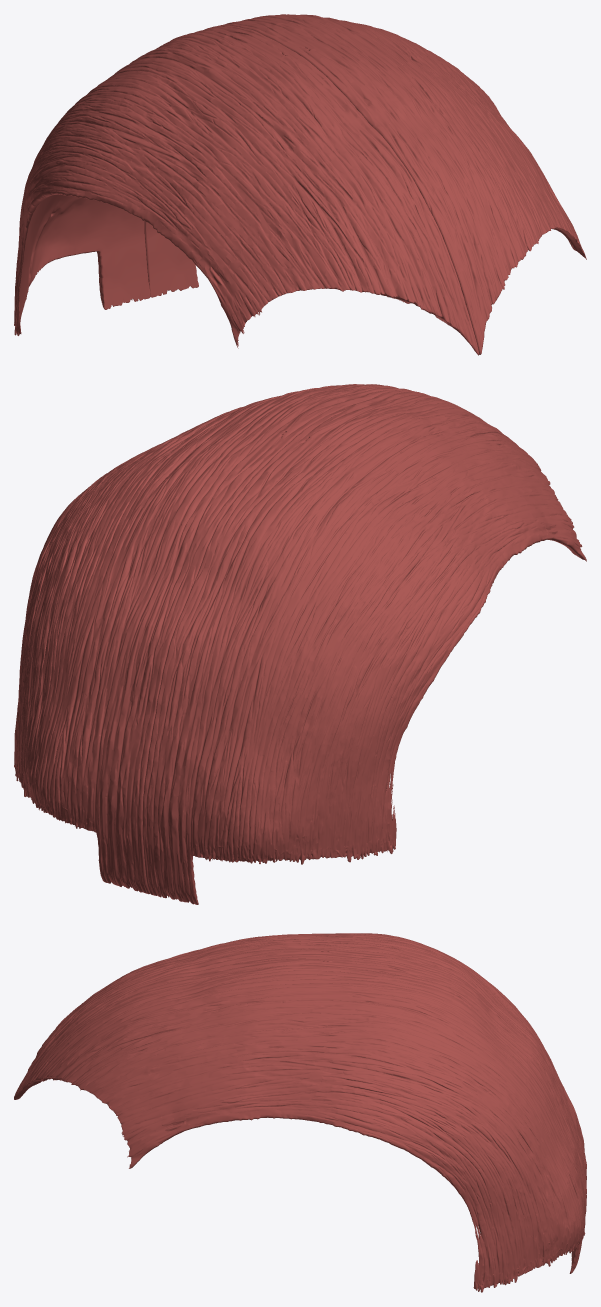
The model's file is FMA46768.glb.
The picture shows the model from 3 angles, top to bottom: view 1: azimuth 30°, elevation 25°; view 2: azimuth 150°, elevation 25°; view 3: azimuth 270°, elevation 25°; orthographic projection. The views are drawn at different scales.
Visible parts, largest first — view 1: FMA46768; view 2: FMA46768; view 3: FMA46768.
Part boxes in pixels (x1,y1,x2,y2): FMA46768: (14,14,586,355); FMA46768: (14,384,586,904); FMA46768: (14,933,586,1292).
Bounding box in the file's own units: 0.1294 × 0.1056 × 0.1825.
